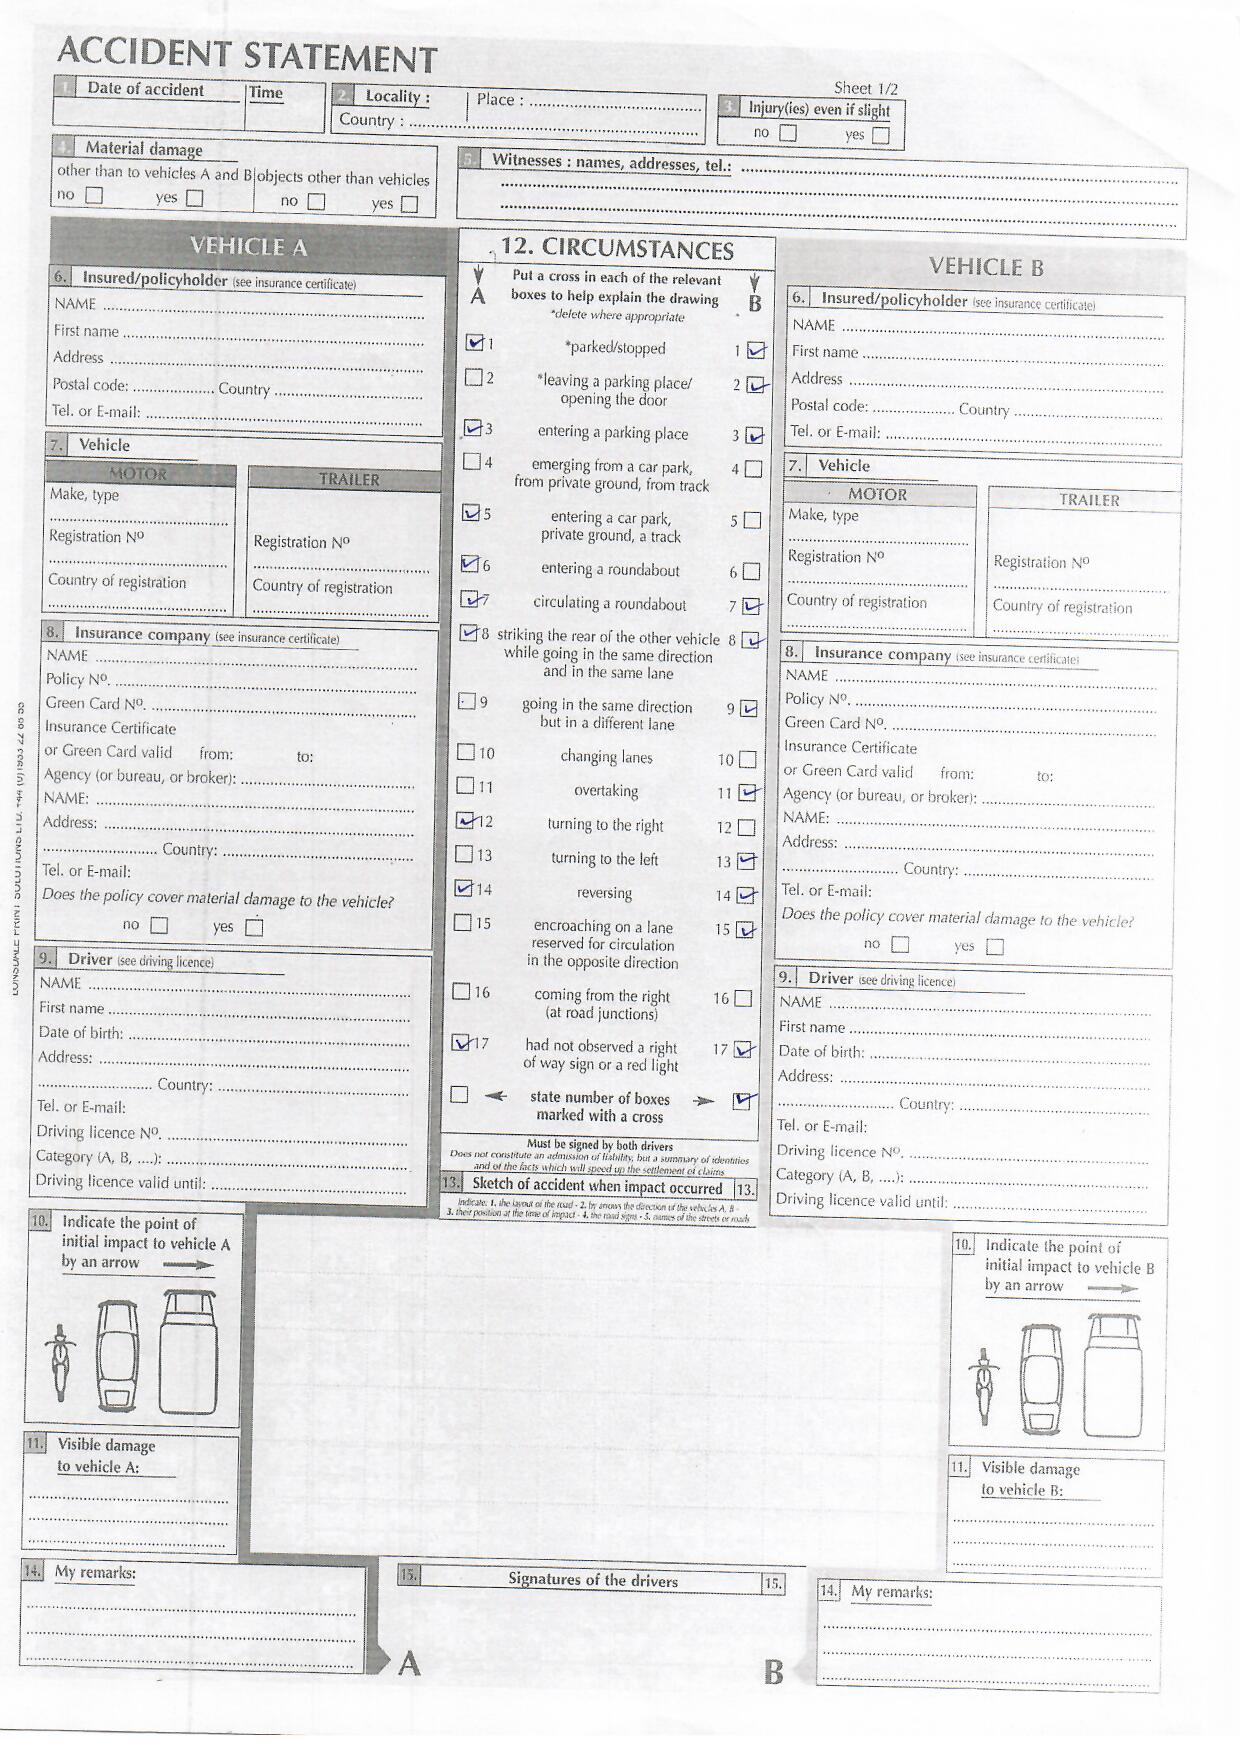a: (454, 548, 484, 579), (737, 593, 768, 621), (741, 336, 769, 365), (455, 587, 484, 615), (731, 882, 760, 910), (458, 498, 484, 528), (733, 779, 762, 805), (731, 850, 760, 876), (730, 1035, 756, 1064), (462, 328, 488, 354), (460, 413, 486, 442), (447, 1028, 472, 1056), (450, 875, 478, 901), (742, 421, 768, 448), (738, 625, 764, 652), (451, 807, 476, 834), (731, 917, 756, 945), (737, 695, 760, 723), (458, 620, 480, 648)
